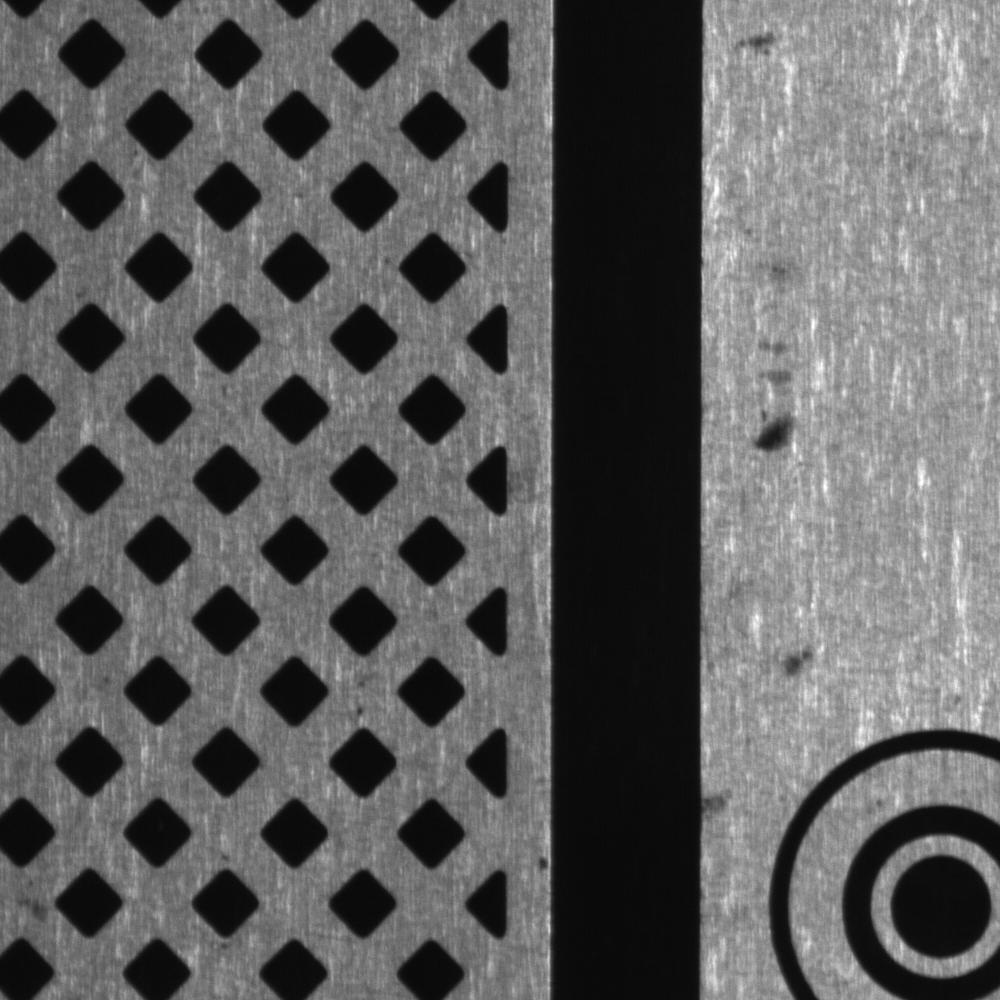Discolor: (743, 254, 803, 456), (713, 18, 816, 64), (775, 632, 829, 687), (701, 774, 740, 845)
